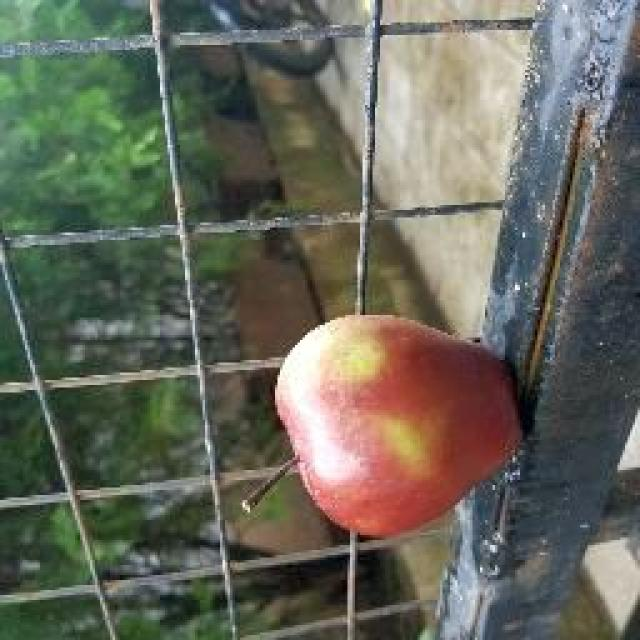Good_Apple: (272, 315, 525, 540)
